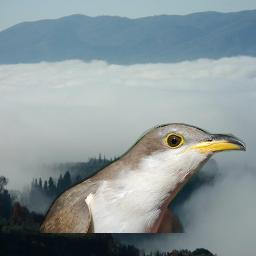Cuckoo: (40, 123, 246, 233)
